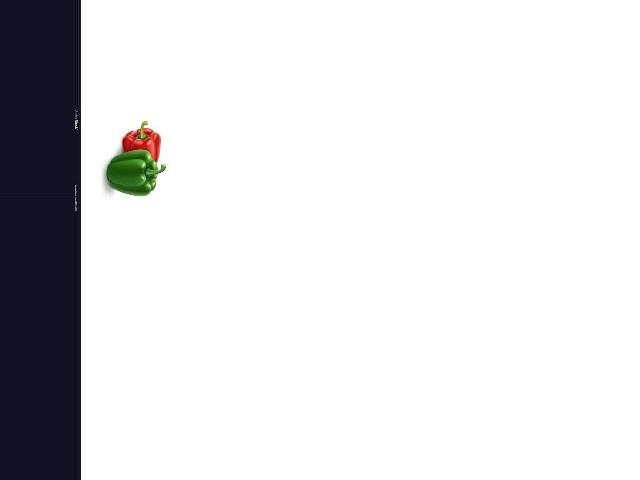bell_pepper: (123, 121, 165, 164)
